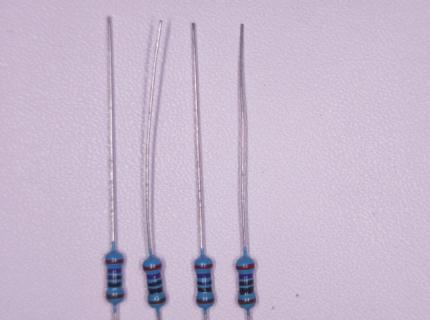Black band: (239, 286, 254, 295), (149, 286, 163, 294), (239, 279, 254, 286), (147, 280, 162, 287), (198, 286, 212, 292), (108, 281, 122, 287), (197, 280, 212, 285), (107, 275, 122, 279)
Brown band: (148, 296, 167, 304), (238, 297, 256, 305), (106, 293, 125, 299), (196, 298, 215, 304)
Red band: (143, 263, 162, 271), (236, 263, 255, 270), (194, 263, 213, 269), (105, 258, 124, 264)
Violet band: (147, 272, 161, 279), (239, 273, 253, 279), (107, 268, 122, 273), (197, 273, 211, 278)
